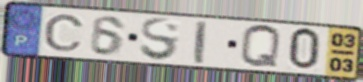0: (287, 26, 324, 74)
6: (88, 15, 128, 57)
C: (42, 13, 86, 53)
I: (194, 19, 209, 65)
Q: (238, 23, 283, 70)
S: (138, 17, 182, 63)
